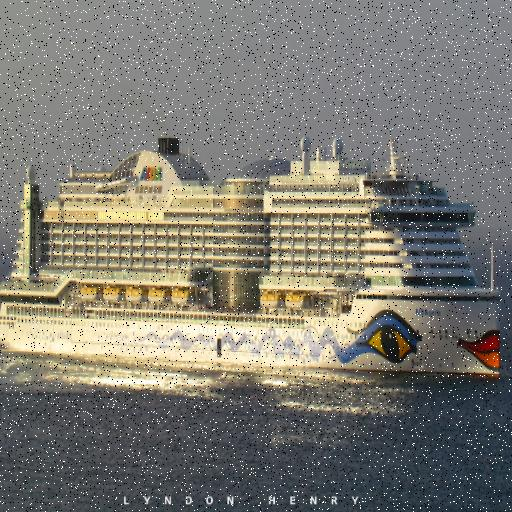cruises: (1, 92, 505, 390)
